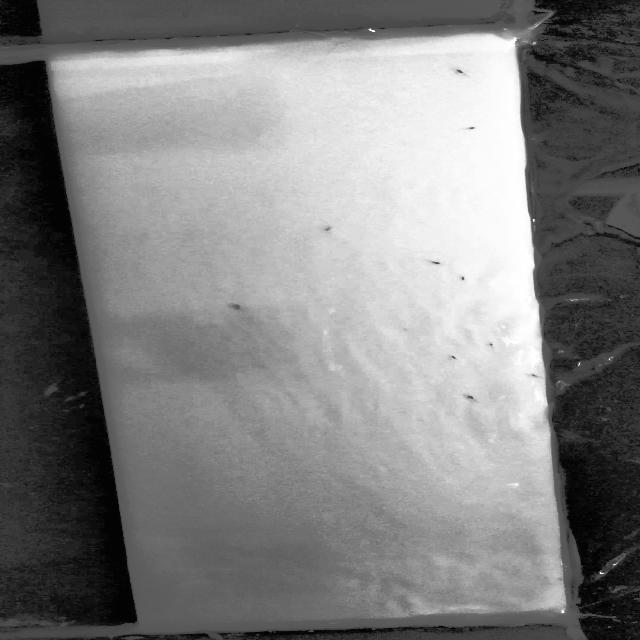shrimp: (455, 120, 482, 136), (420, 255, 446, 270), (458, 392, 487, 404), (230, 300, 253, 314), (514, 370, 544, 380), (439, 351, 462, 362), (450, 67, 472, 78), (318, 224, 340, 235), (452, 272, 472, 283), (478, 341, 502, 349)
